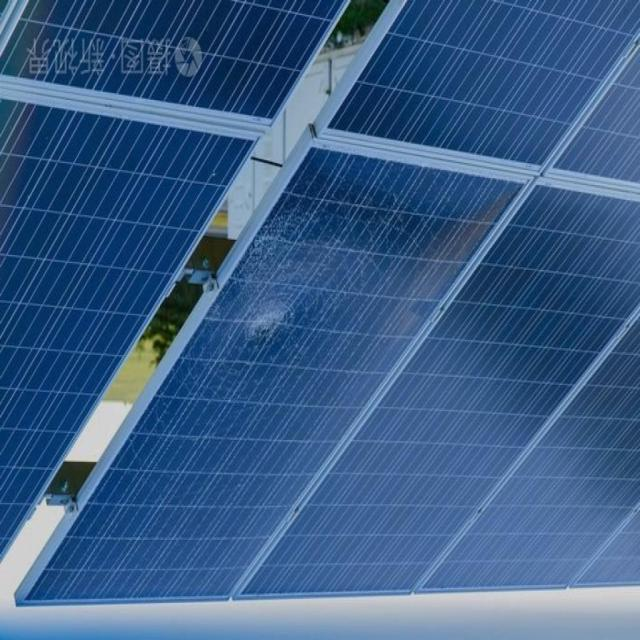cracked: (50, 157, 506, 602)
